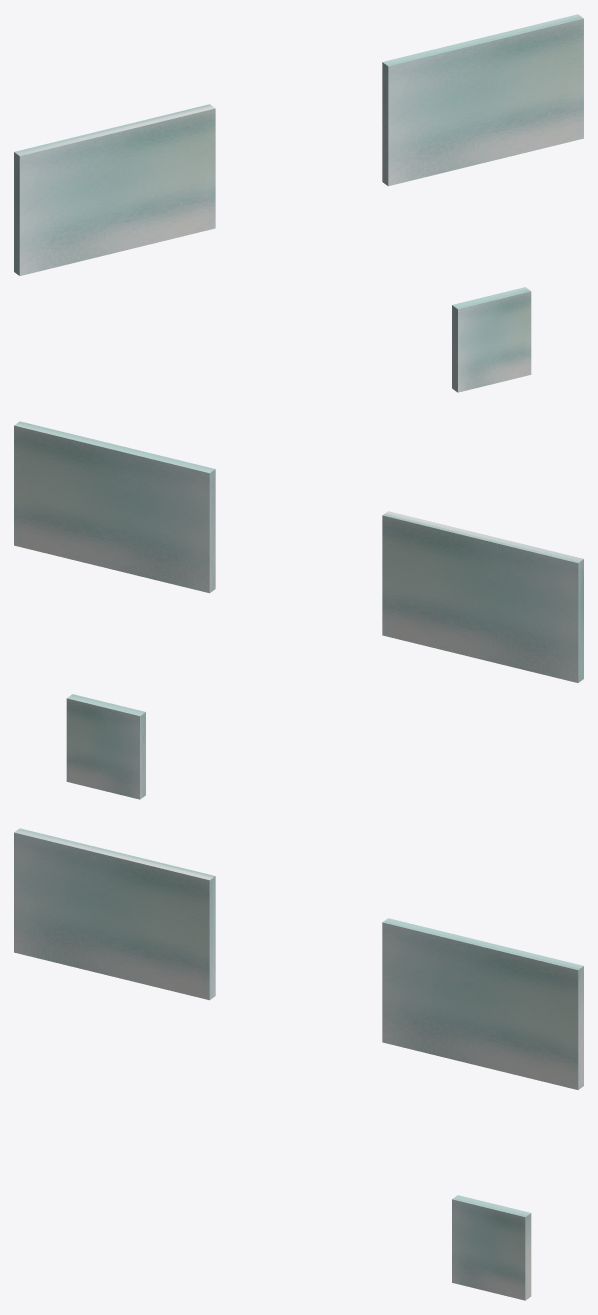
Rendered from ventanas.obj.
3 views of the same model, one above another, from view 1: azimuth 30°, elevation 25°; view 2: azimuth 150°, elevation 25°; view 3: azimuth 330°, elevation 25° (orthographic).
Visible parts, largest first — view 1: pCube104, pCube105, pCube106; view 2: pCube104, pCube105, pCube106; view 3: pCube104, pCube105, pCube106.
Boxes of the visible parts, box(x1,y1,x2,y2) form: pCube104: box(14, 104, 215, 275); pCube105: box(382, 14, 583, 186); pCube106: box(452, 287, 531, 392); pCube104: box(382, 511, 583, 682); pCube105: box(14, 421, 215, 593); pCube106: box(66, 694, 145, 799); pCube104: box(14, 828, 215, 1000); pCube105: box(382, 918, 583, 1089); pCube106: box(452, 1195, 531, 1300).
Bounding box in the file's own units: 11.65 × 6.78 × 0.2087.
Materials: 1 (1 with a texture image).
